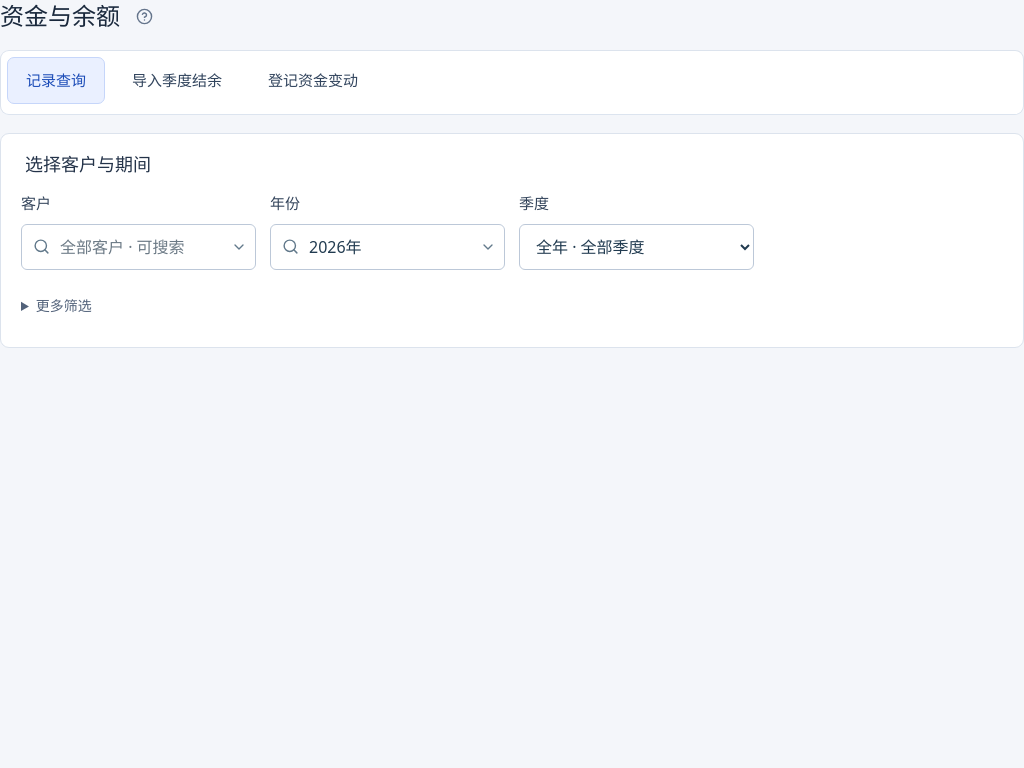
Test: 原件读取失败在弹窗提示，不提供无效下载
The width and height of the screenshot is (1024, 768).
Focus the dropdown named "资金与余额客户" at (138, 247), box [21,224,256,270]
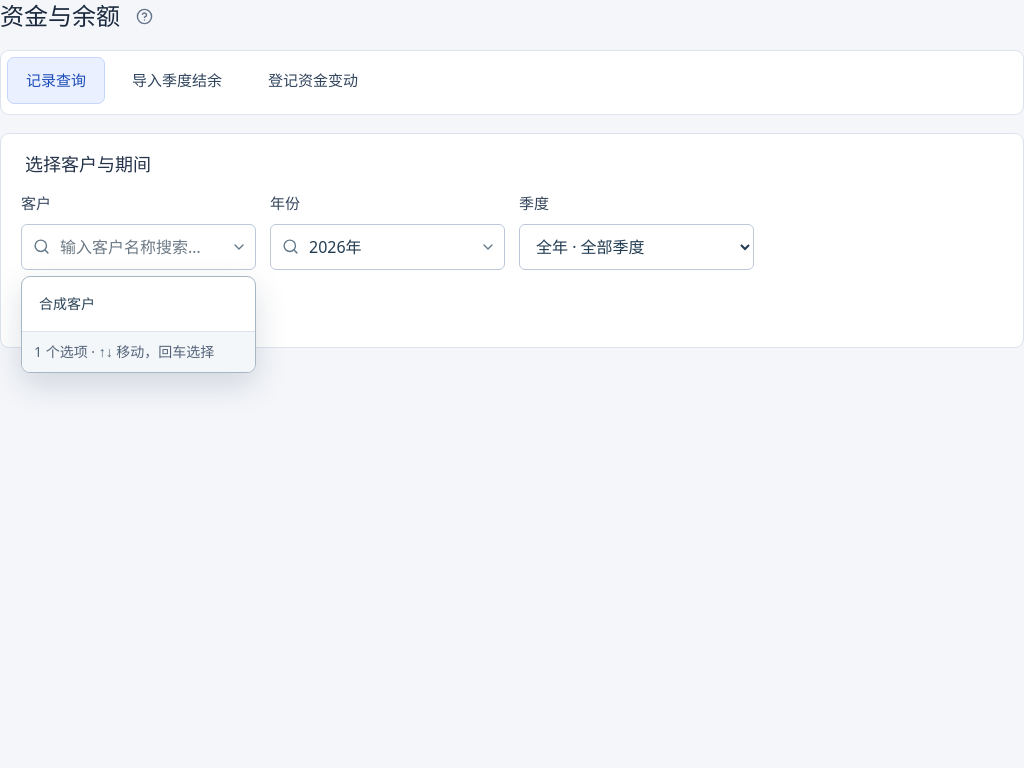
Click the option "合成客户".
click(67, 304)  # box [39,294,95,313]
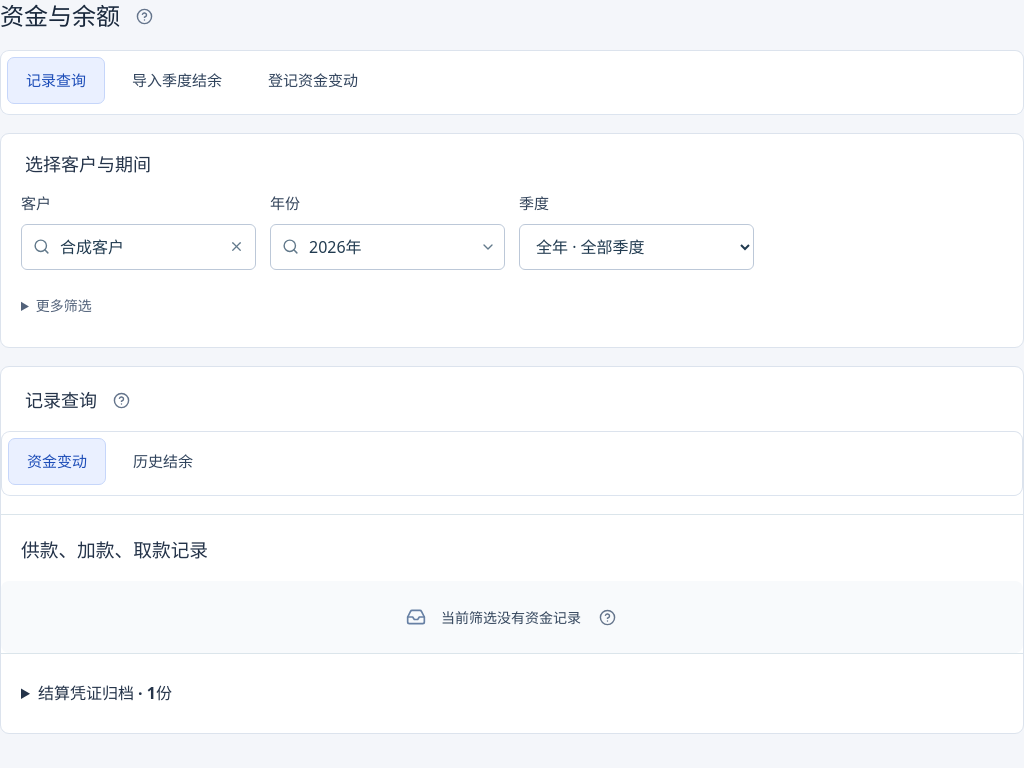
Click the heading "结算凭证归档 · 1份".
click(105, 693)  # box [38,682,172,704]
(page scrolled)
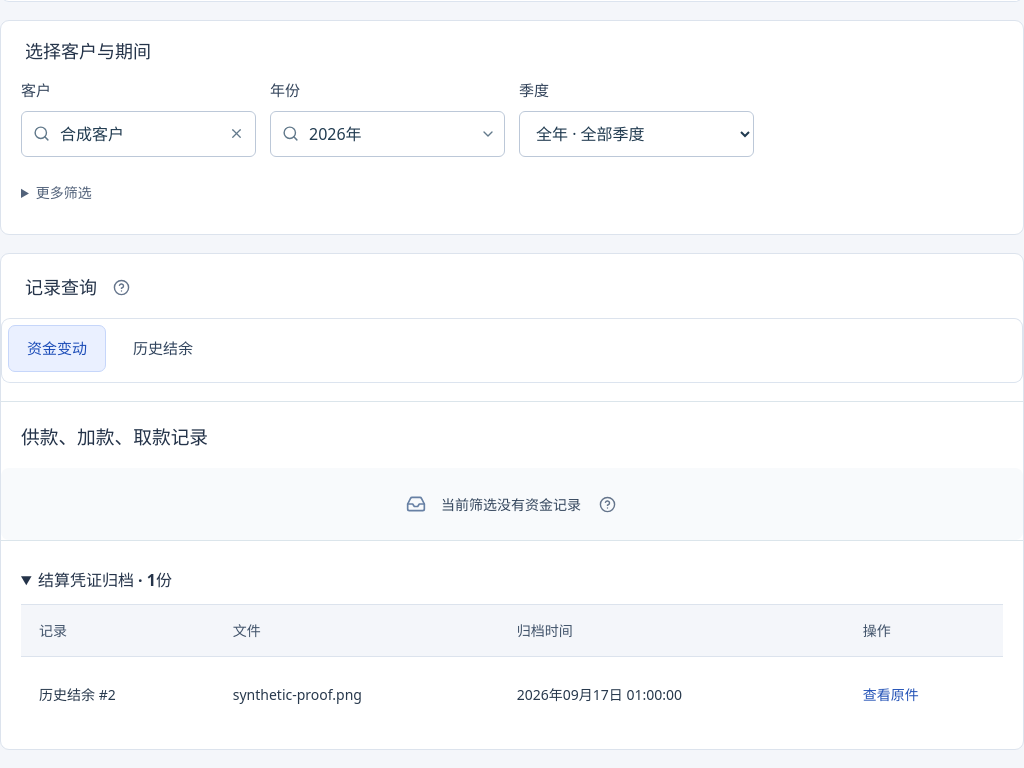
Click the button "查看原件".
click(891, 695)  # box [863,673,919,717]
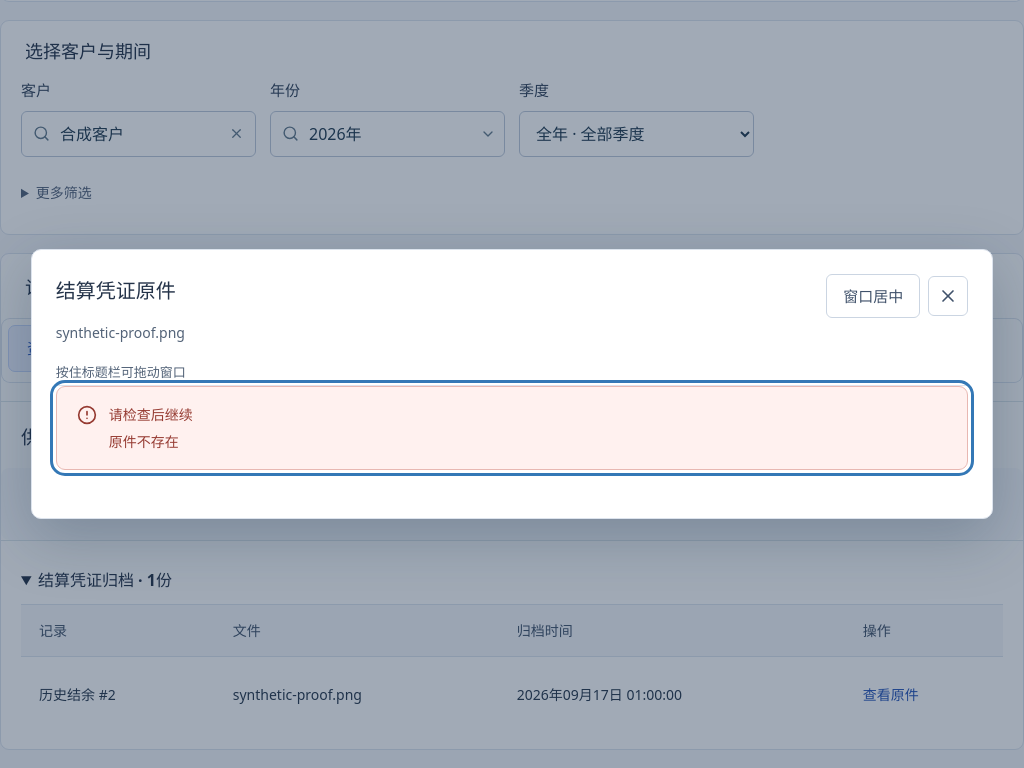
Now the message shows "原件不存在", box [109,432,179,451]
